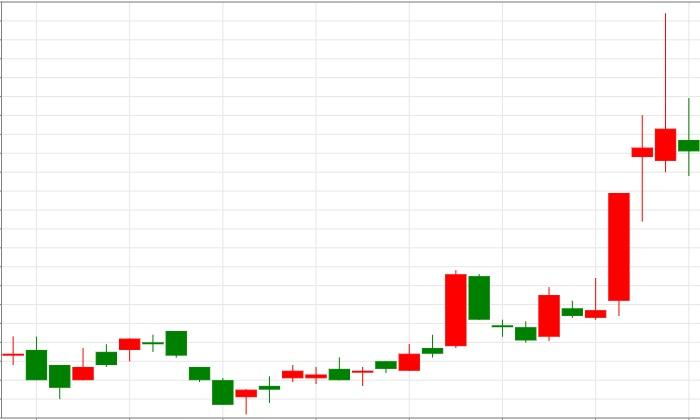shooting_star_fall: (538, 13, 677, 342)
